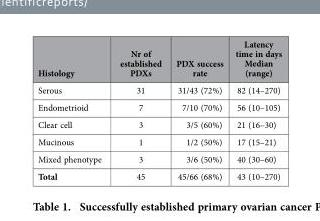table: (37, 37, 281, 181)
table column: (37, 37, 110, 181), (168, 37, 228, 181), (110, 37, 168, 181), (228, 37, 281, 181)
table column header: (37, 37, 281, 81)
table row: (37, 37, 281, 81), (37, 132, 281, 150), (37, 81, 281, 98), (37, 98, 281, 115), (37, 115, 281, 132), (37, 150, 281, 167), (37, 167, 281, 181)
